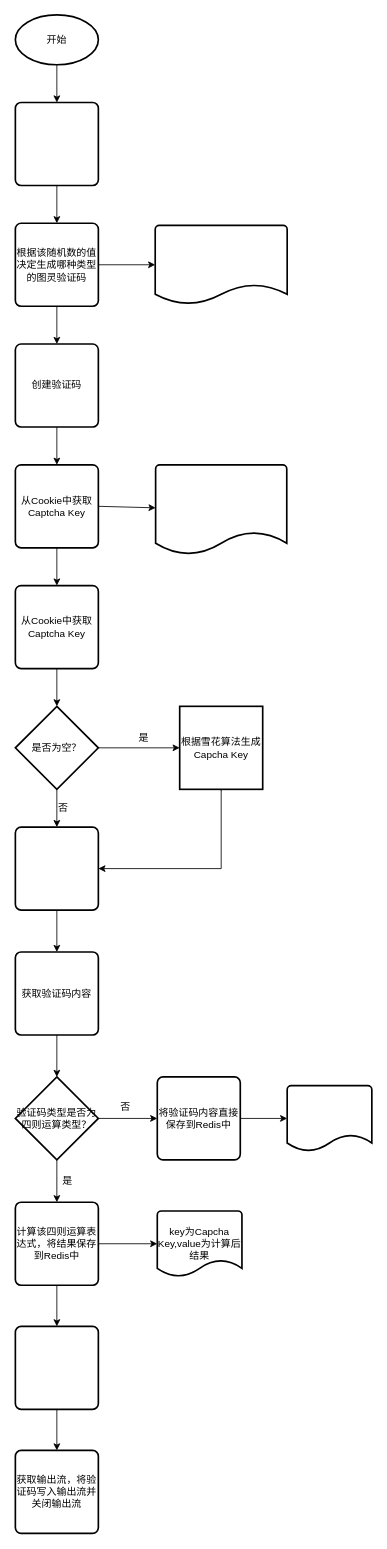
This 387x1549 diagram has some shape labels left out. Here are the shapes that lost their labels. From the top down, the box of each, then its label:
(14, 101, 99, 186): 生成一个1-3的随机数
(154, 224, 288, 305): 0：默认类型（数字+字母） 1：数字类型 2：字母类型 3：四则运算类型
(154, 464, 287, 555): Captcha Key将被保存在Cookie中，用于根据该key找到对应用户的验证码内容，并根据该key保证同一个用户只会在Redis中生成一次验证码内容。
(14, 826, 99, 911): 将Captcha Key保存到Cookie中，有效期十分钟
(286, 1084, 372, 1152): key为Capcha Key,value为验证码内容
(14, 1325, 99, 1410): 设置响应类型为"image/png"
